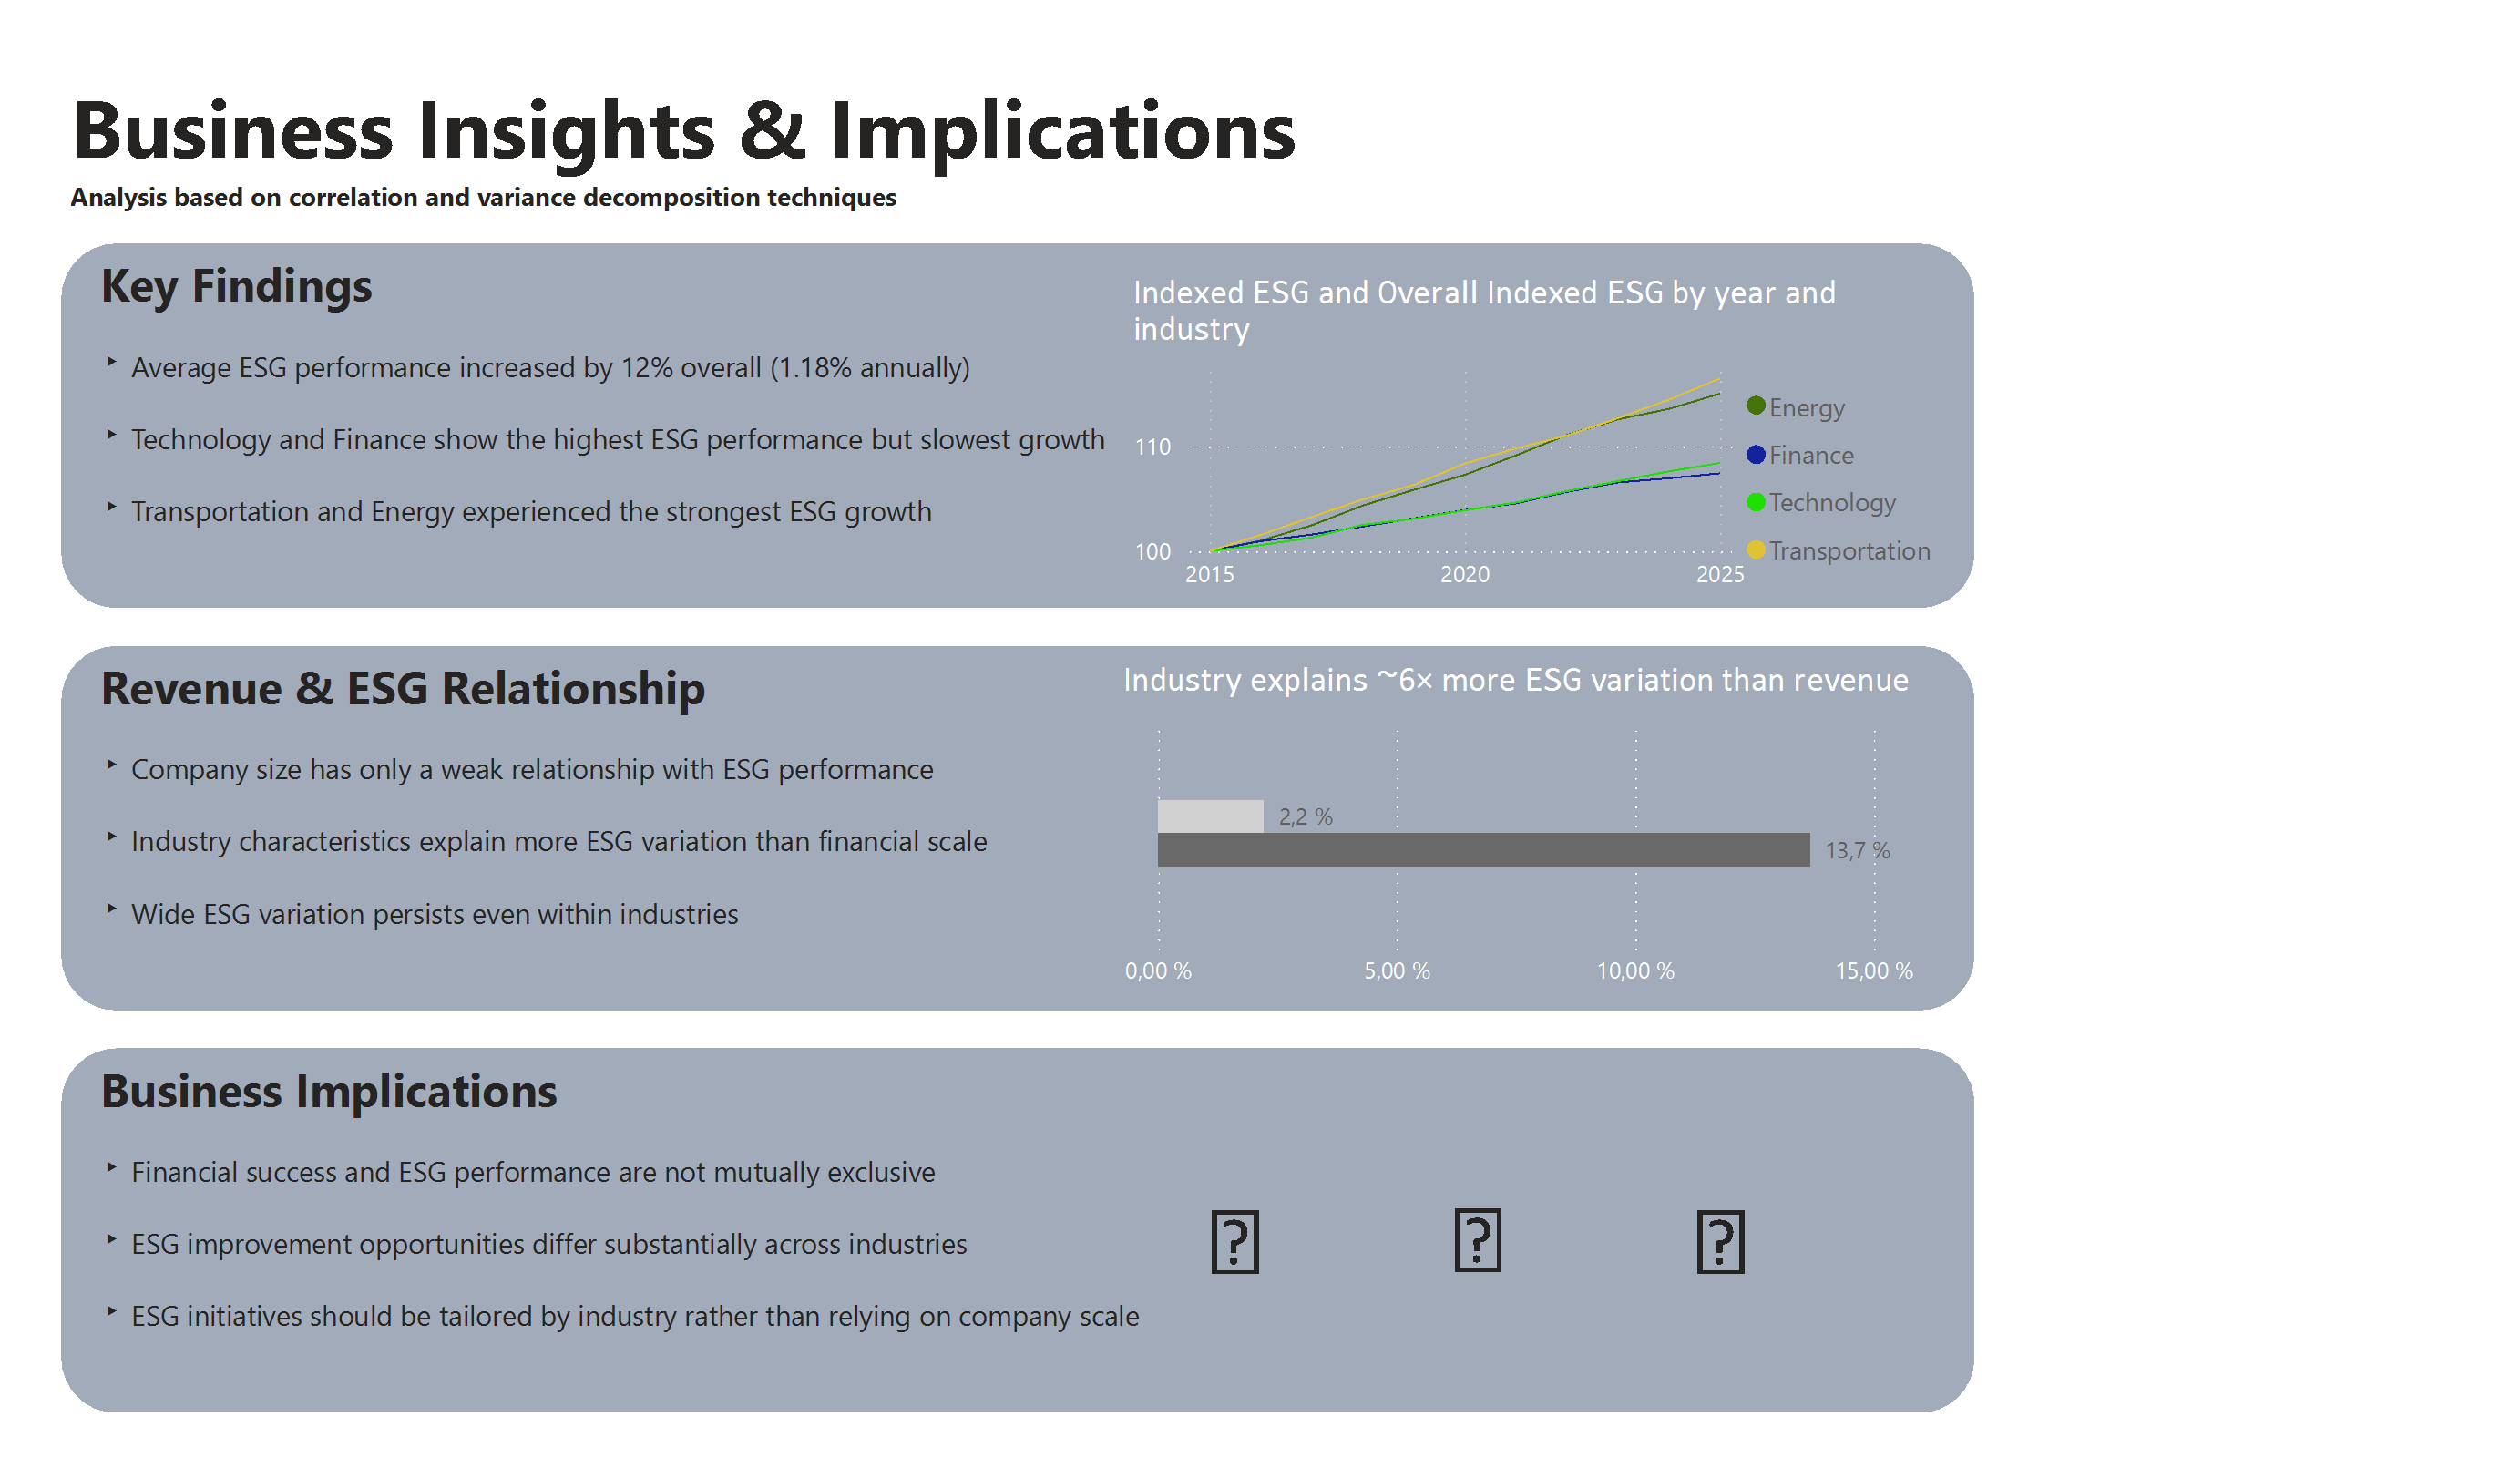

The dashboard page shown, as its layout file describes it:
{"tool":"powerbi","page":{"name":"Page 1","canvas":[1280,720],"ordinal":1},"visuals":[{"type":"textbox","box":[8,8,664,88],"z":0},{"type":"shape","box":[8,104,1008,192],"z":1000,"group":"g3"},{"type":"group","id":"g1","title":"Group 1","box":[8,528,1008,192],"z":1000},{"type":"group","id":"g2","title":"Group 2","box":[8,316,1008,192],"z":2000},{"type":"shape","box":[8,528,1008,192],"z":2000,"group":"g1"},{"type":"group","id":"g3","title":"Group 3","box":[8,104,1008,192],"z":3000},{"type":"shape","box":[8,316,1008,192],"z":3000,"group":"g2"},{"type":"textbox","box":[24,316,504,176],"z":4000,"group":"g2"},{"type":"textbox","box":[24,104,552,176],"z":5000,"group":"g3"},{"type":"textbox","box":[24,528,568,184],"z":7000,"group":"g1"},{"type":"clusteredBarChart","title":"Industry explains ~6× more ESG variation than revenue","fields":{"Y":["public company_esg.Revenue ESG Variance Explained","public company_esg.ESG Variance Explained by Industry"]},"box":[568,324,448,176],"z":8000,"group":"g2"},{"type":"textbox","box":[608,584,88,88],"z":9000,"group":"g1"},{"type":"textbox","box":[736,583.3,88,88],"z":10000,"group":"g1"},{"type":"textbox","box":[864,584,88,88],"z":11000,"group":"g1"},{"type":"lineChart","fields":{"Category":["public company_esg.year"],"Series":["public company_esg.industry"],"Y":["public company_esg.Indexed ESG"]},"box":[568,120,440,176],"z":14000,"group":"g3"}]}

Visuals, with their boxes on the page's 1280x720 design canvas (x1, y1, x2, y2). These are canvas units, not pixel positions in the 2520x1458 screenshot, which may show the page scaled, cropped or inside an application window:
textbox: (8,8,672,96)
shape: (8,104,1016,296)
"Group 1" group: (8,528,1016,720)
"Group 2" group: (8,316,1016,508)
shape: (8,528,1016,720)
"Group 3" group: (8,104,1016,296)
shape: (8,316,1016,508)
textbox: (24,316,528,492)
textbox: (24,104,576,280)
textbox: (24,528,592,712)
"Industry explains ~6× more ESG variation than revenue" clusteredBarChart: (568,324,1016,500)
textbox: (608,584,696,672)
textbox: (736,583,824,671)
textbox: (864,584,952,672)
lineChart - public company_esg.year x public company_esg.industry: (568,120,1008,296)
